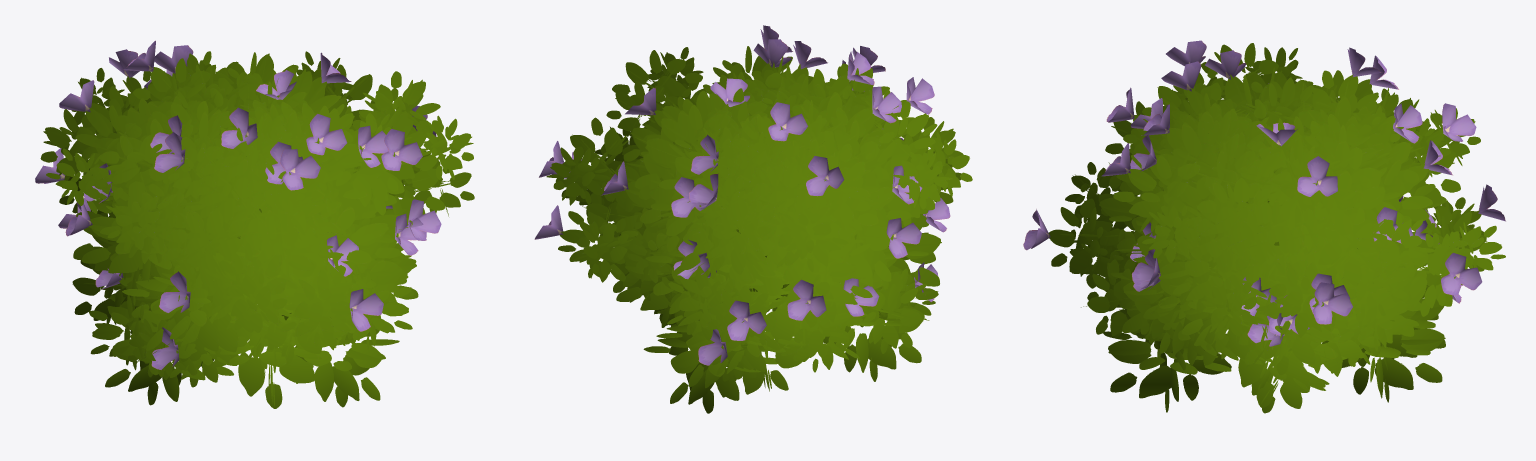
Rendered from bush_common_flowers.glb.
3 views of the same model, side by side, from view 1: azimuth 30°, elevation 25°; view 2: azimuth 150°, elevation 25°; view 3: azimuth 270°, elevation 25° (orthographic). The views are drawn at different scales.
Parts seen in each view (by area): view 1: Bush_Common_Flowers; view 2: Bush_Common_Flowers; view 3: Bush_Common_Flowers.
Boxes of the visible parts, <box> form: Bush_Common_Flowers: <box>35,40,474,408</box>; Bush_Common_Flowers: <box>534,25,972,413</box>; Bush_Common_Flowers: <box>1023,40,1505,413</box>.
Bounding box in the file's own units: 1.91 × 1.58 × 1.97.
Materials: 2 (2 with a texture image).
